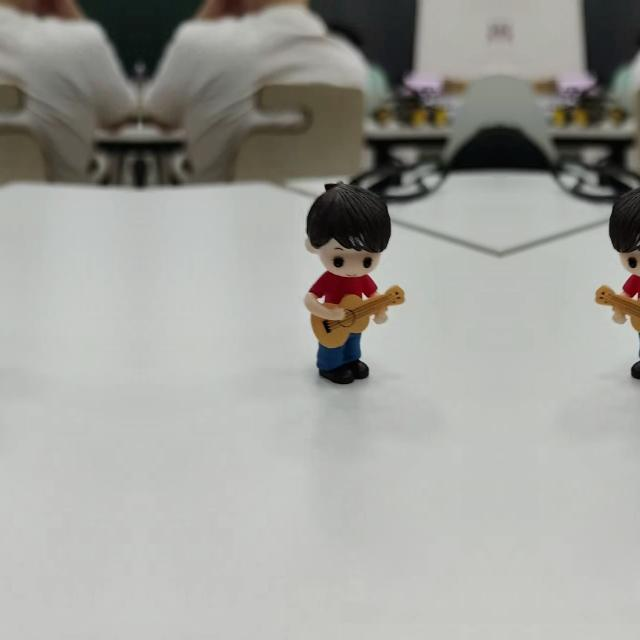man cloth: (308, 266, 378, 304), (622, 265, 640, 304)
man head: (309, 178, 393, 280), (607, 177, 640, 280)
trousers: (313, 326, 373, 386), (627, 326, 640, 386)
